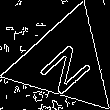N_NE: (32, 30, 97, 94)
